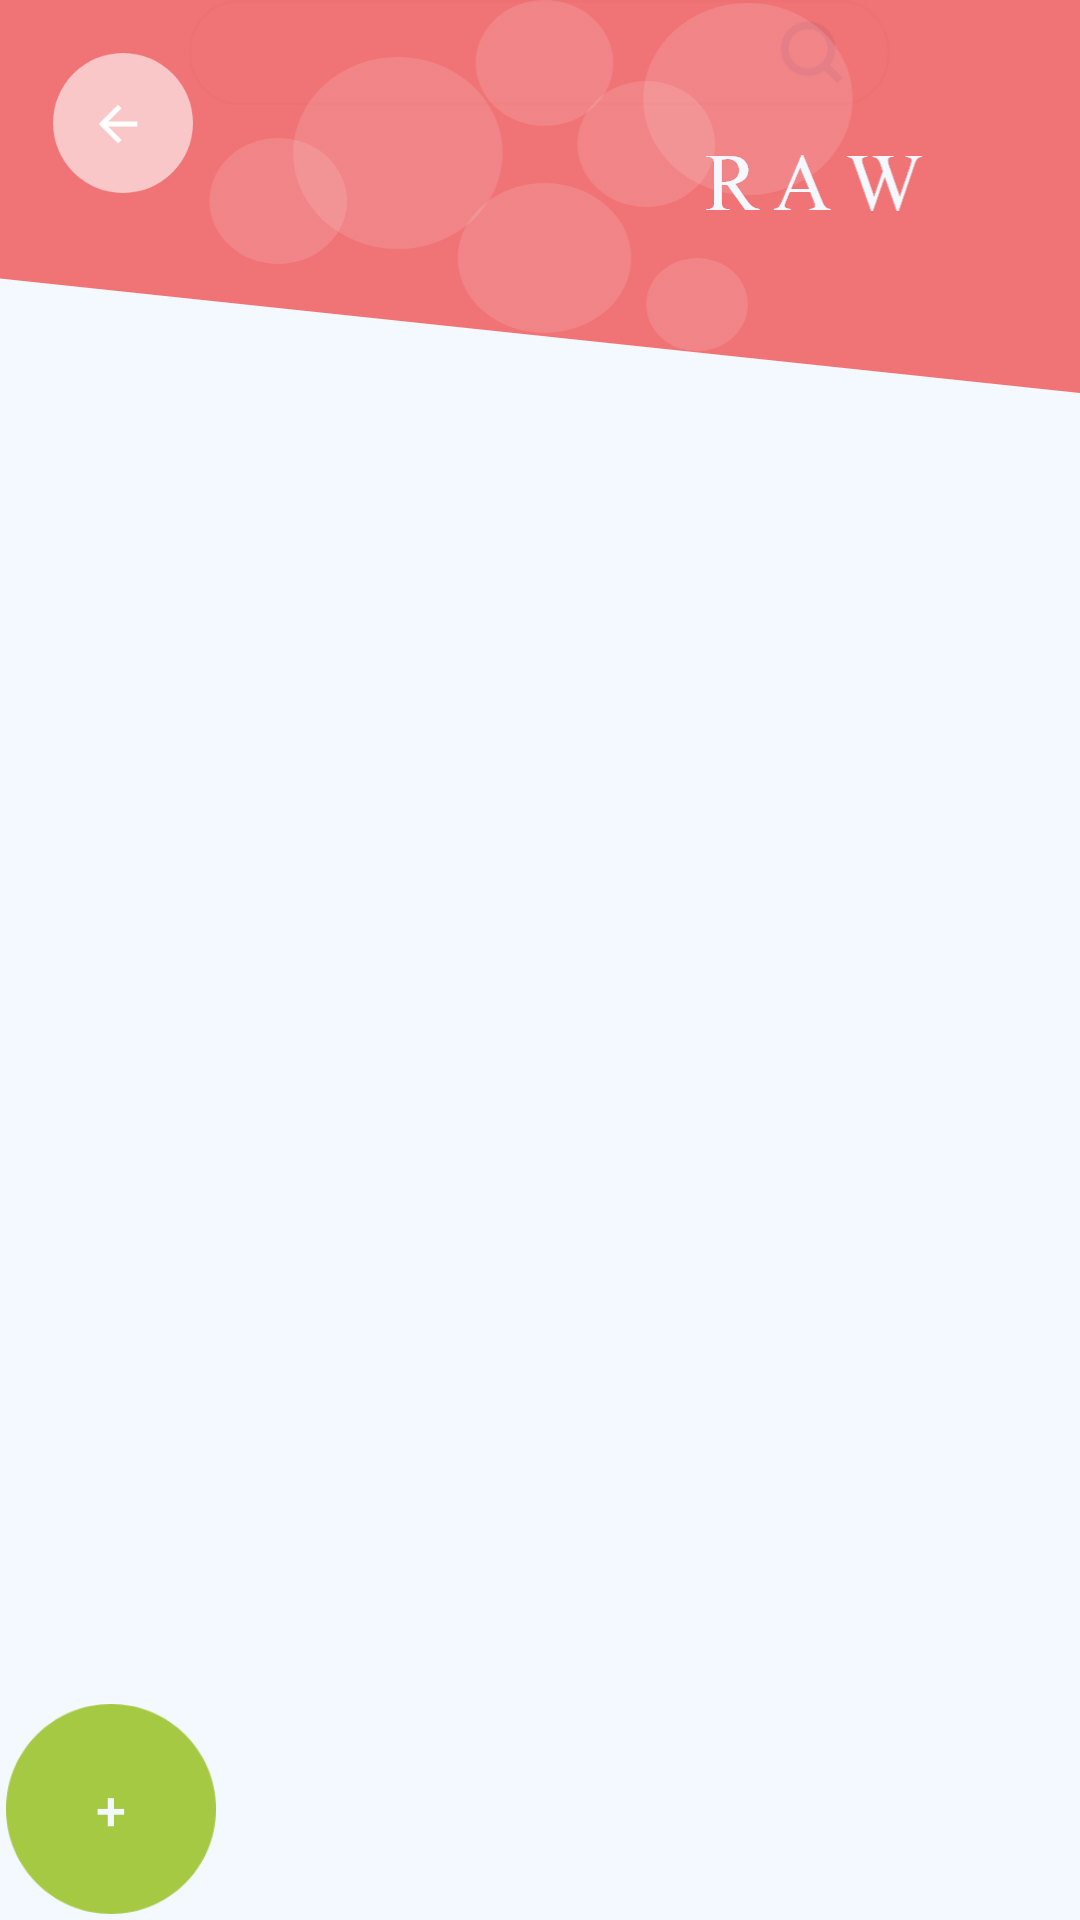

Named icons in this screenshot (1080px x 1920px) and their bounding boxes, bbox=(x1, y1, x2, y2):
arrow: bbox=(53, 53, 193, 193)
